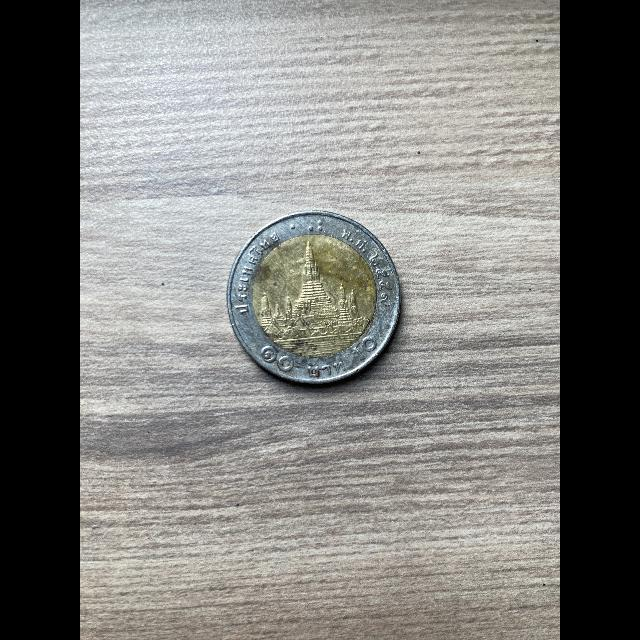10 Bath: (224, 210, 405, 390)
